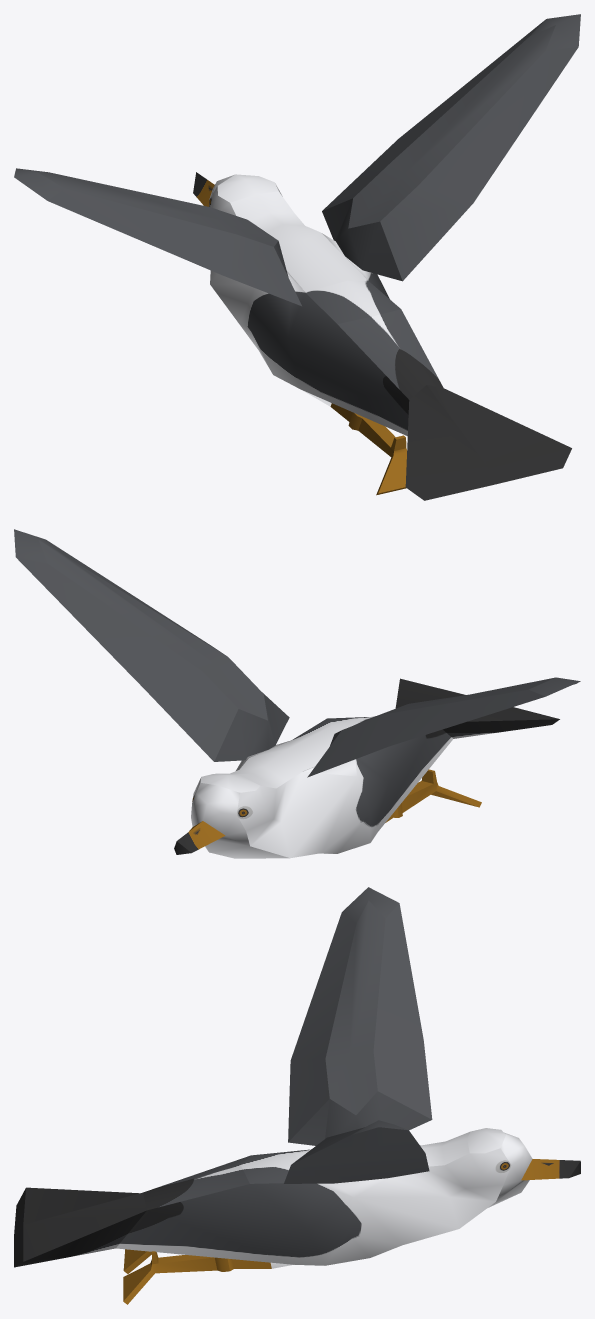
File: bird_1.obj
The picture shows the model from 3 angles, top to bottom: view 1: azimuth 30°, elevation 25°; view 2: azimuth 150°, elevation 25°; view 3: azimuth 270°, elevation 25°; orthographic projection. The views are drawn at different scales.
Visible parts, largest first — view 1: bird_1; view 2: bird_1; view 3: bird_1.
Part boxes in pixels (x1,y1,x2,y2): bird_1: [14, 14, 580, 500]; bird_1: [14, 529, 580, 858]; bird_1: [14, 887, 580, 1304].
Size of the model in its own units: 5.31 by 2.65 by 4.93.
